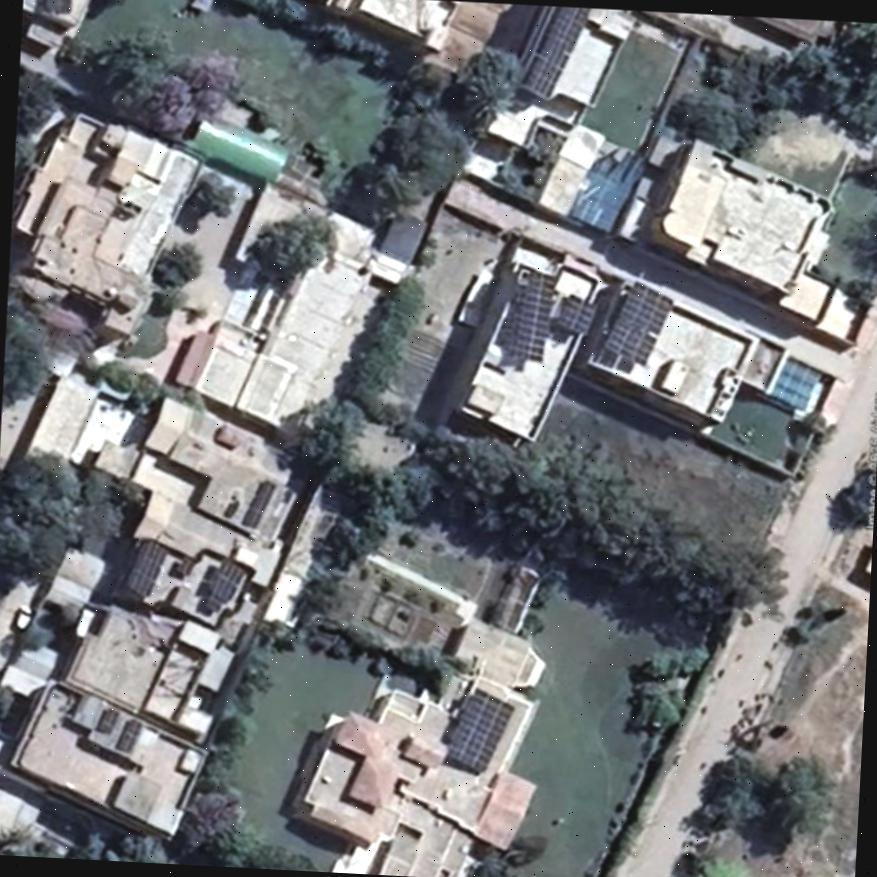Solarpanel: (520, 7, 589, 96), (447, 686, 513, 774), (606, 283, 673, 366), (513, 270, 558, 360), (124, 542, 166, 594), (558, 293, 595, 339), (208, 559, 244, 602), (46, 0, 69, 15)
